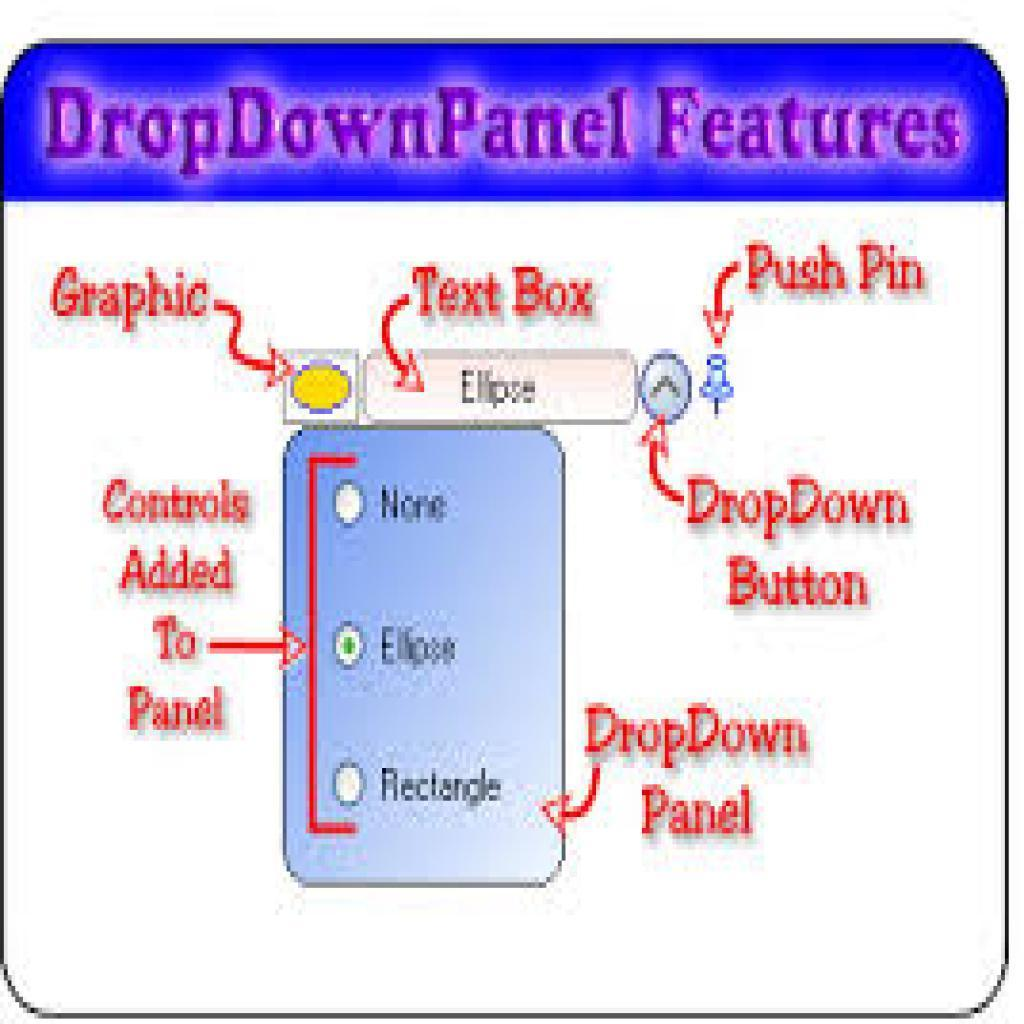dropdown: (362, 349, 697, 430)
radio: (330, 758, 371, 809), (335, 617, 370, 670), (335, 481, 367, 530)
